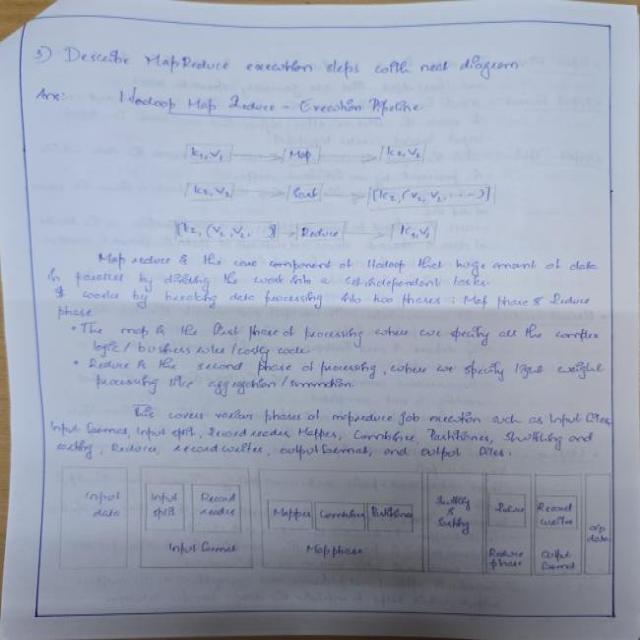Figure Detection - v3 Dataset Version2: (37, 450, 618, 605), (137, 132, 497, 255)
